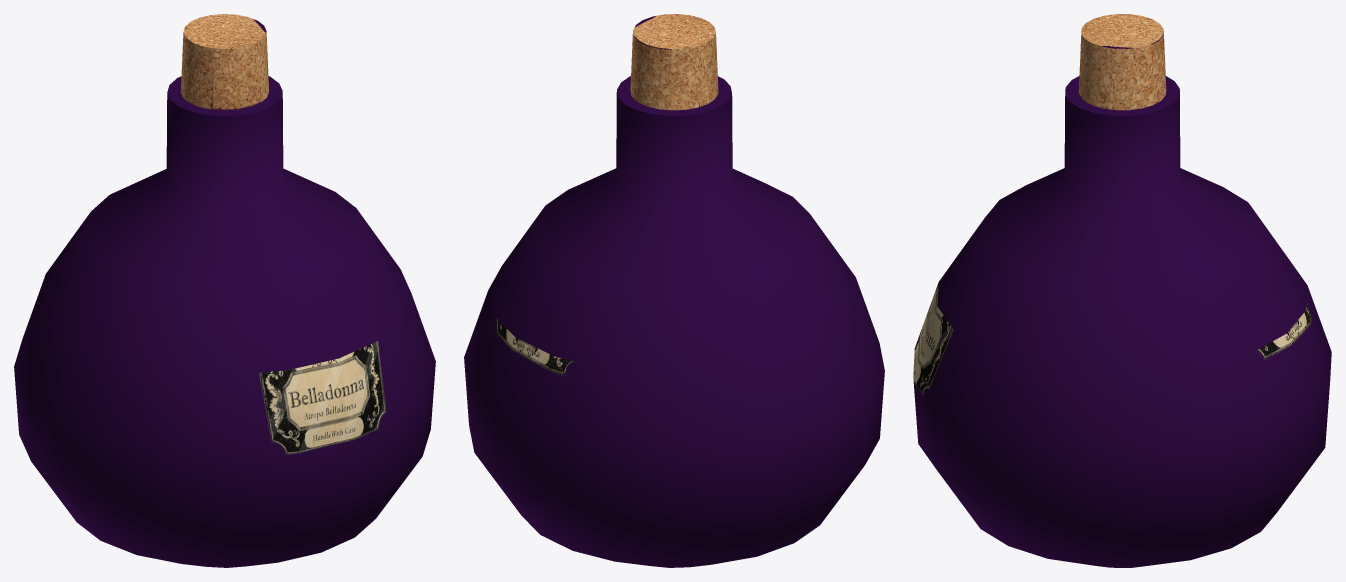
Rendered from Potion Green.fbx.
The picture shows the model from 3 angles, left to right: view 1: azimuth 30°, elevation 25°; view 2: azimuth 150°, elevation 25°; view 3: azimuth 270°, elevation 25°; orthographic projection.
Parts seen in each view (by area): view 1: pasted__pCylinder9; view 2: pasted__pCylinder9; view 3: pasted__pCylinder9.
Boxes of the visible parts, left/top/right/bottom form: pasted__pCylinder9: left=14, top=14, right=435, bottom=567; pasted__pCylinder9: left=464, top=14, right=884, bottom=567; pasted__pCylinder9: left=913, top=14, right=1331, bottom=567.
Bounding box in the file's own units: 0.6789 × 0.9108 × 0.6789.
